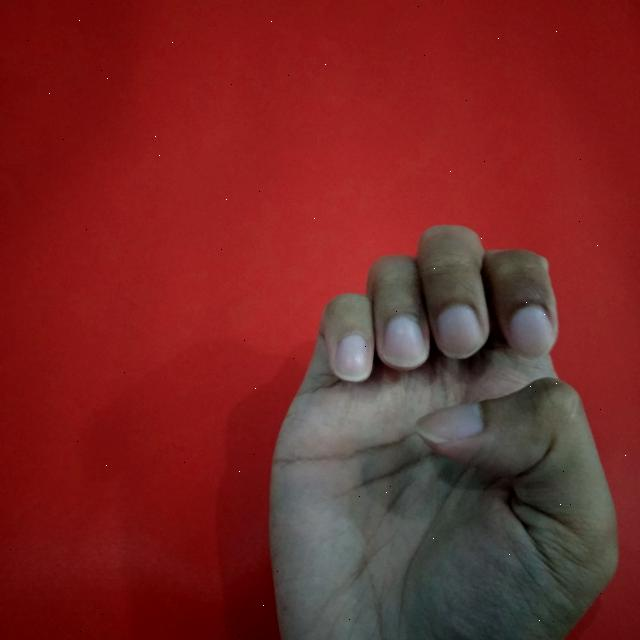E: (261, 221, 623, 640)
